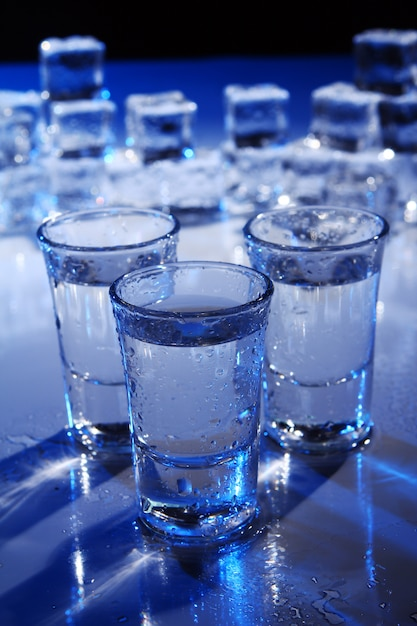alcohol: (110, 258, 277, 556), (240, 204, 390, 454), (34, 208, 184, 453)
